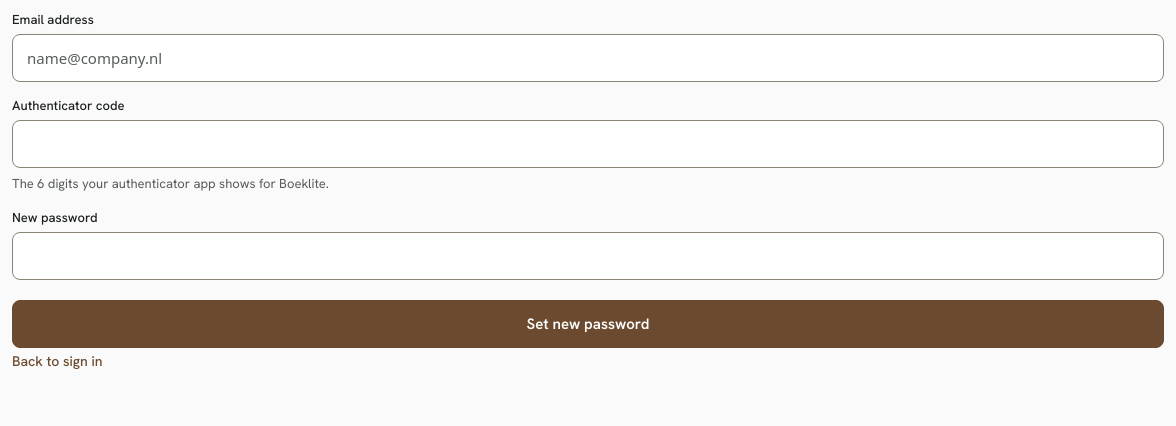
Test: password recovery screen (IAM-018) › shows the server's own sentence on refusal and stays on the form
The image size is (1176, 426).
Type "a@example.com" into the field with test id "recover-email" at (588, 58), box [12,34,1164,82]
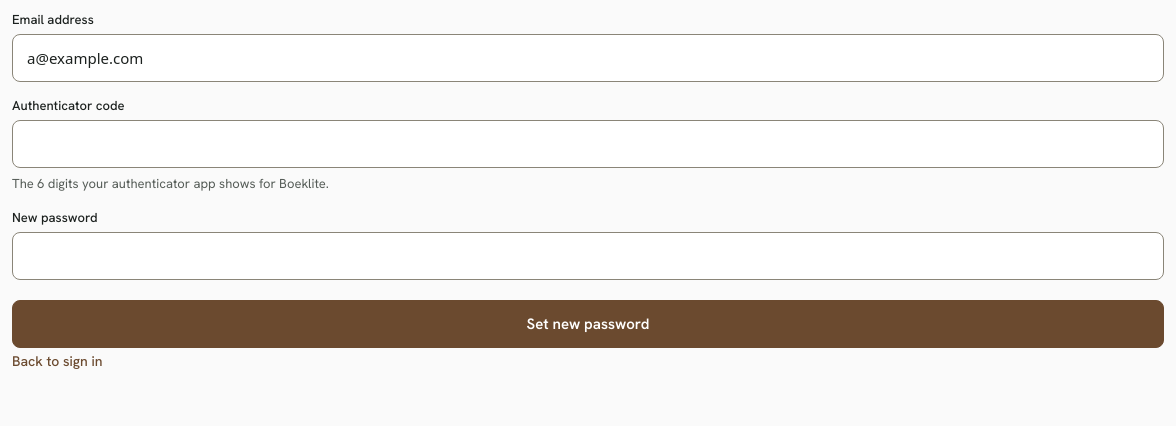
Type "000000" into the field with test id "recover-code" at (588, 144), box [12,120,1164,168]
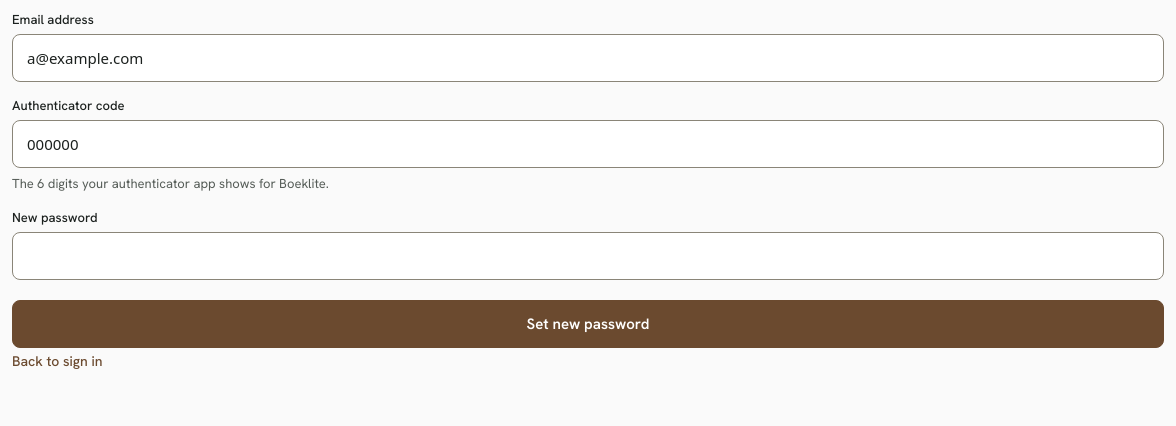
Type "a long new passphrase 1" into the password field with test id "recover-password" at (588, 256), box [12,232,1164,280]
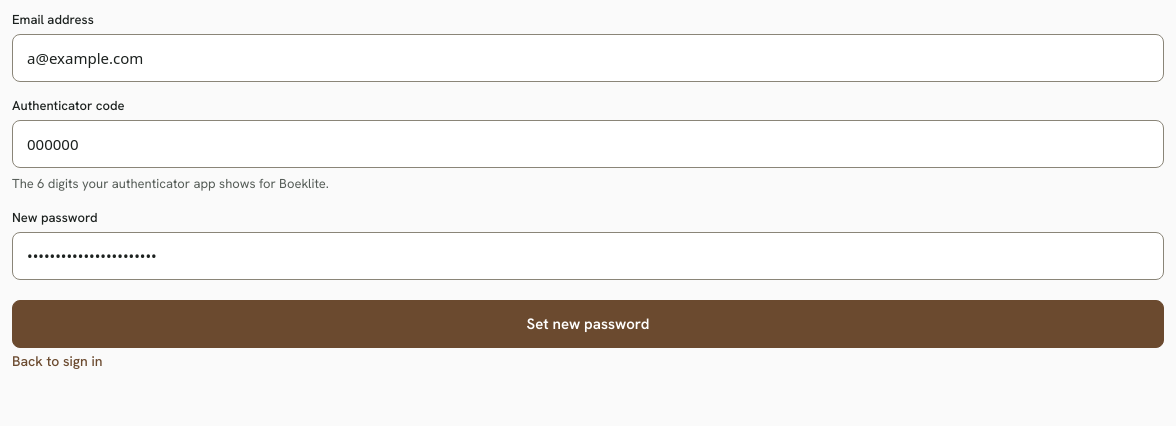
Click the button with test id "recover-submit" at (588, 324), box [12,300,1164,348]
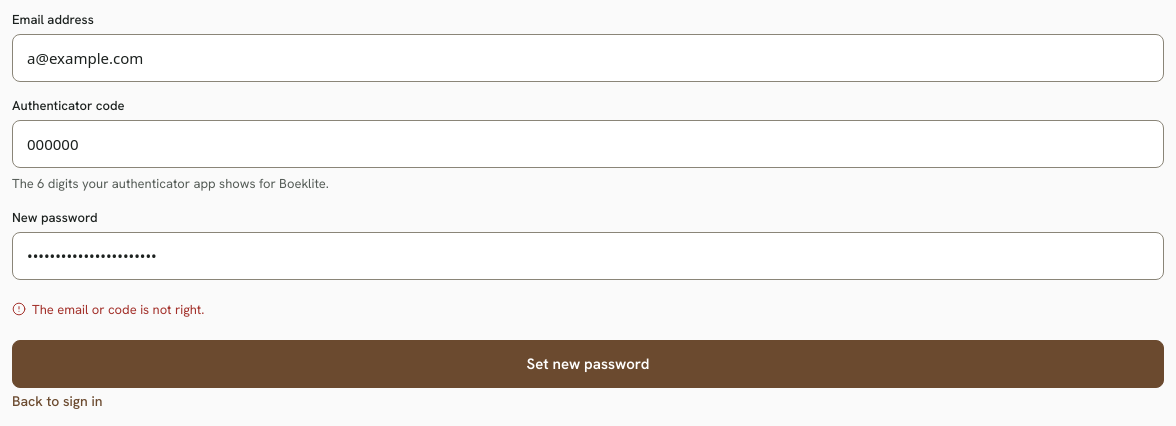
Expected: the message "The email or code is not right." is shown, [12,301,204,318]
Expected: the message with test id "recover-error" shows "not right", [32,301,204,318]
